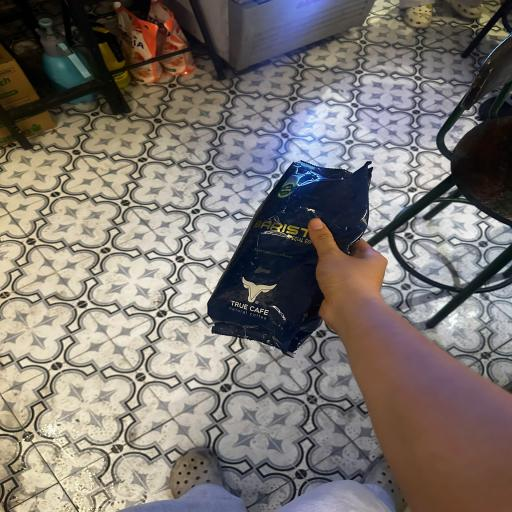cafe_hat: (205, 144, 385, 359)
